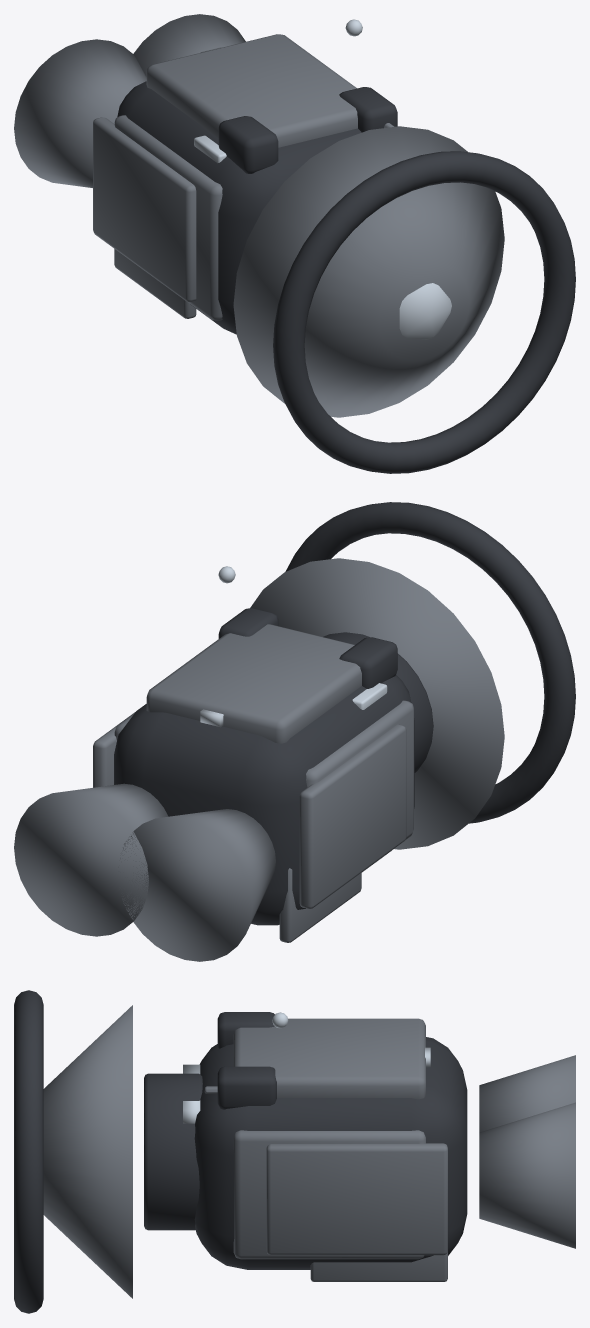
File: weapon_drone_inferno_jet.glb
The picture shows the model from 3 angles, top to bottom: view 1: azimuth 30°, elevation 25°; view 2: azimuth 150°, elevation 25°; view 3: azimuth 270°, elevation 25°; orthographic projection. The views are drawn at different scales.
Parts seen in each view (by area): view 1: weapon_drone_inferno_jet; view 2: weapon_drone_inferno_jet; view 3: weapon_drone_inferno_jet.
Boxes of the visible parts, left/top/right/bottom form: weapon_drone_inferno_jet: left=14, top=14, right=575, bottom=473; weapon_drone_inferno_jet: left=14, top=502, right=575, bottom=961; weapon_drone_inferno_jet: left=14, top=990, right=575, bottom=1313.
Bounding box in the file's own units: 0.872 × 0.9352 × 1.51.
